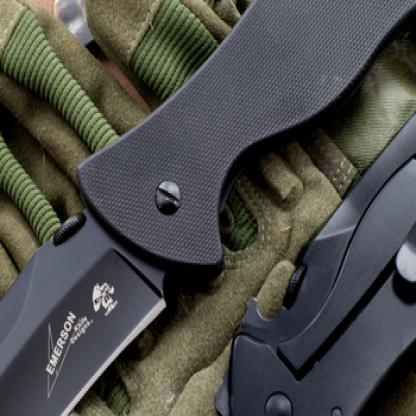knife: (0, 175, 177, 414)
